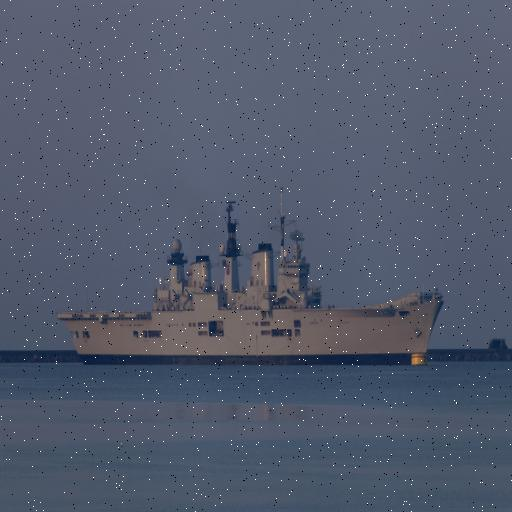Portanaves: (55, 180, 446, 366)
